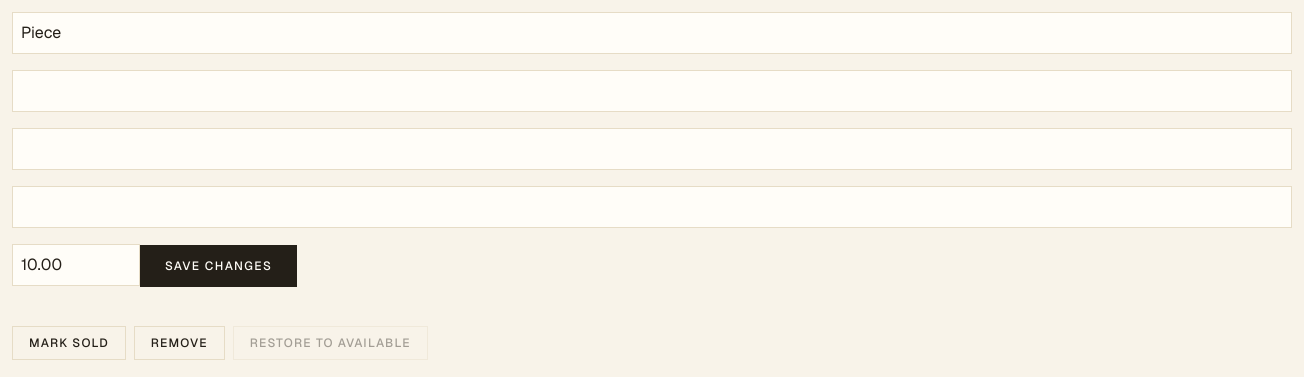
Scenario: ListingEditForm › marks a listing sold
The width and height of the screenshot is (1304, 377).
Click the button with test id "listing-edit-form-mark-sold-button" at {"x": 69, "y": 343}, box [12,326,126,360]
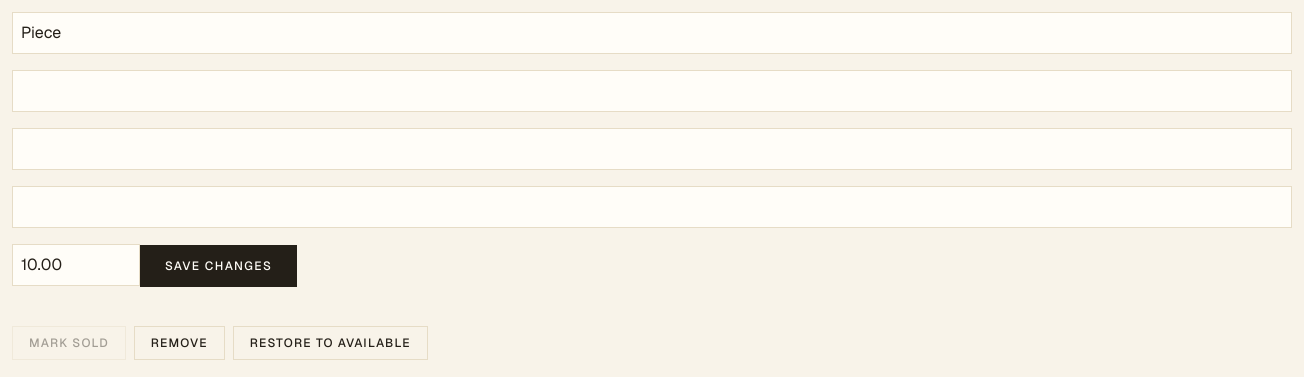
Check: the button with test id "listing-edit-form-mark-sold-button" is disabled, box [12,326,126,360]
